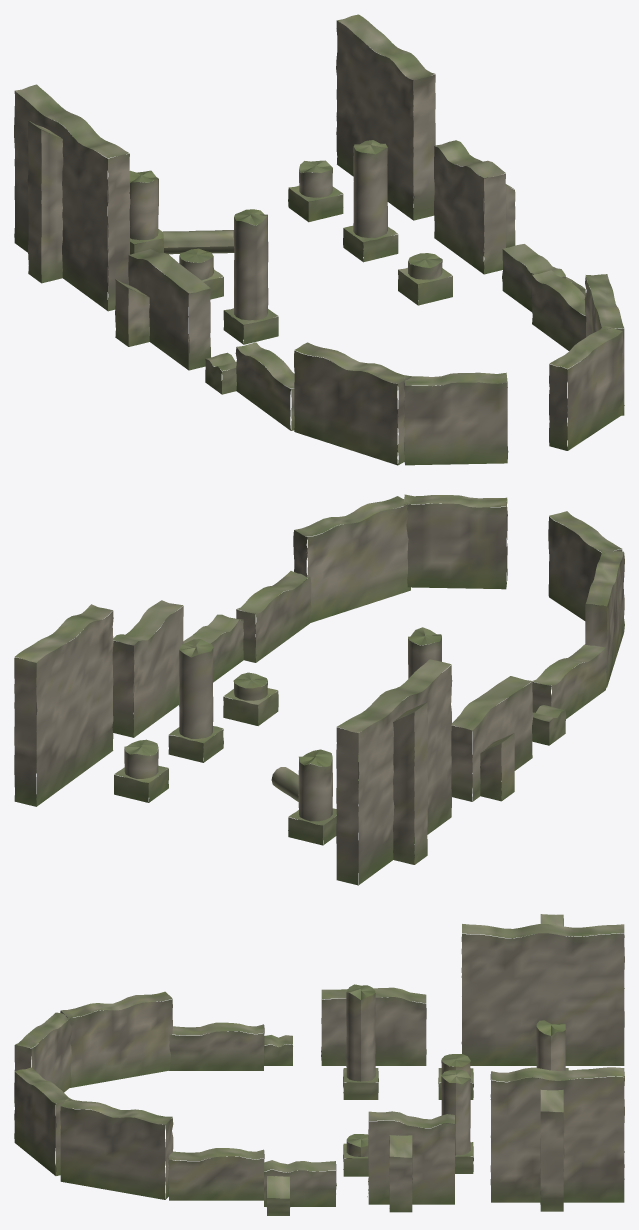
File: hollow_crypt_entrance_walls.glb
3 renders of one model, top to bottom at view 1: azimuth 30°, elevation 25°; view 2: azimuth 150°, elevation 25°; view 3: azimuth 270°, elevation 25°, orthographic. The views are drawn at different scales.
Visible parts, largest first — view 1: Entrance_Nave; view 2: Entrance_Nave; view 3: Entrance_Nave.
Part boxes in pixels (x1=…): Entrance_Nave: x1=14, y1=14, x2=624, y2=465; Entrance_Nave: x1=14, y1=494, x2=624, y2=885; Entrance_Nave: x1=14, y1=914, x2=624, y2=1215.
Bounding box in the file's own units: 20.47 × 8.01 × 32.15.
